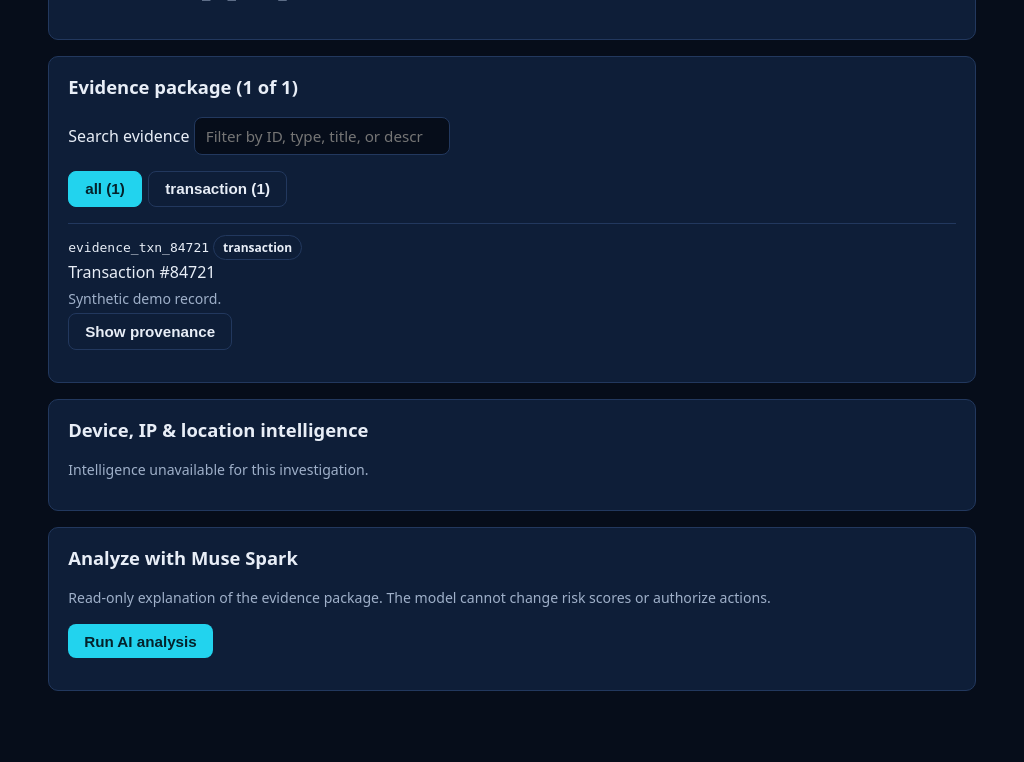
Test: InvestigationPage › keeps deterministic evidence intact when analysis fails
(page scrolled)
Click the button "Run AI analysis" at (140, 641), box top-left (68, 624), bottom-right (213, 658)
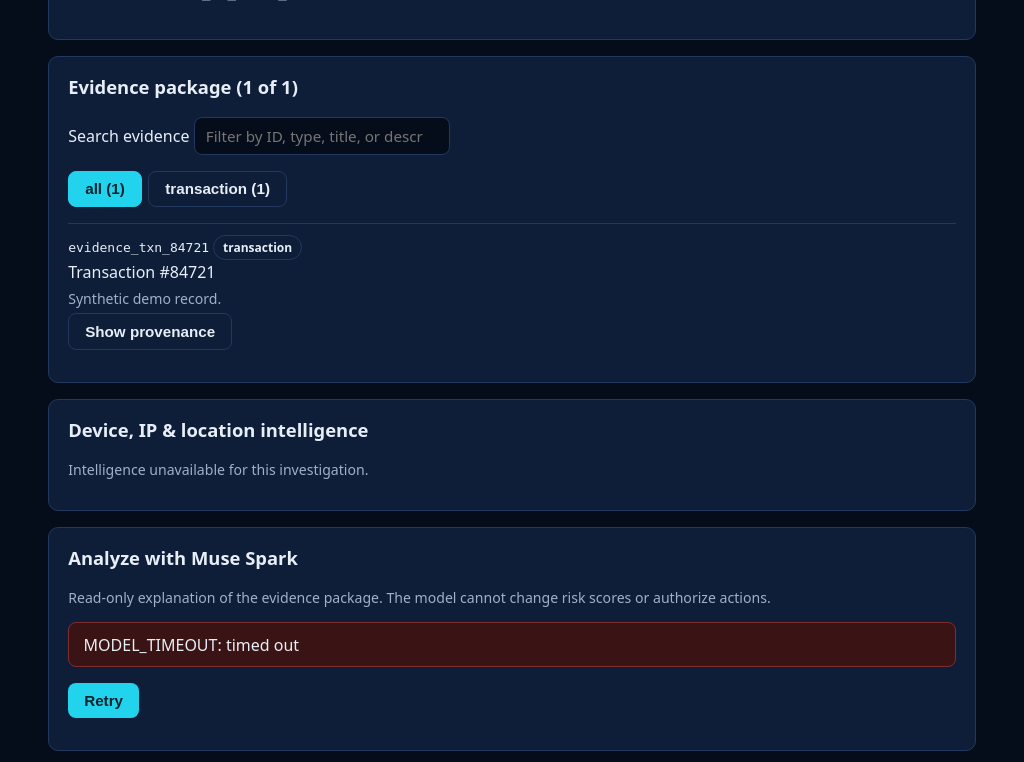
Expected: the text "evidence_txn_84721" is shown, top-left (68, 240), bottom-right (209, 255)
Result: the text "MODEL_TIMEOUT: timed out" is shown at top-left (68, 622), bottom-right (956, 667)
